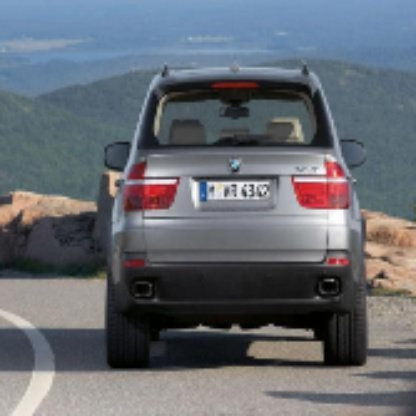Vehicle: (86, 44, 384, 398)
